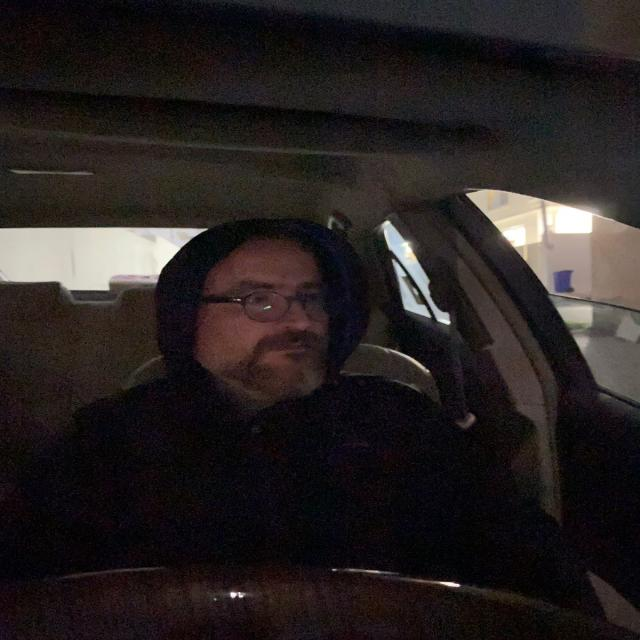person: (176, 226, 362, 401)
